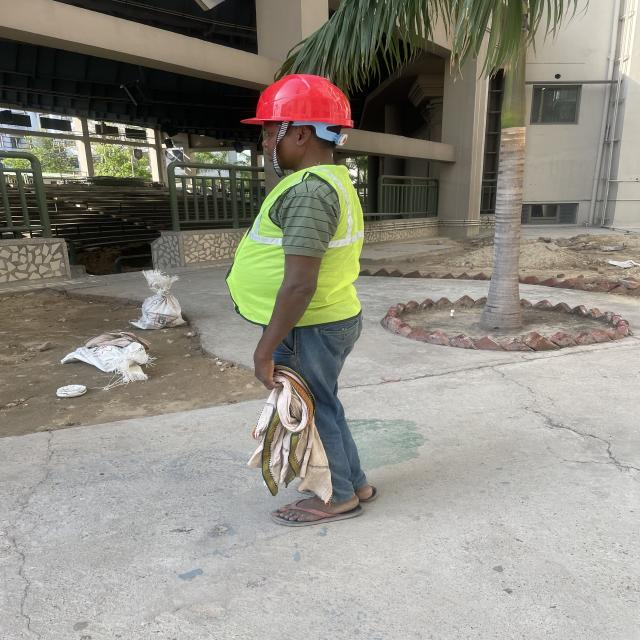safe: (226, 74, 376, 526)
